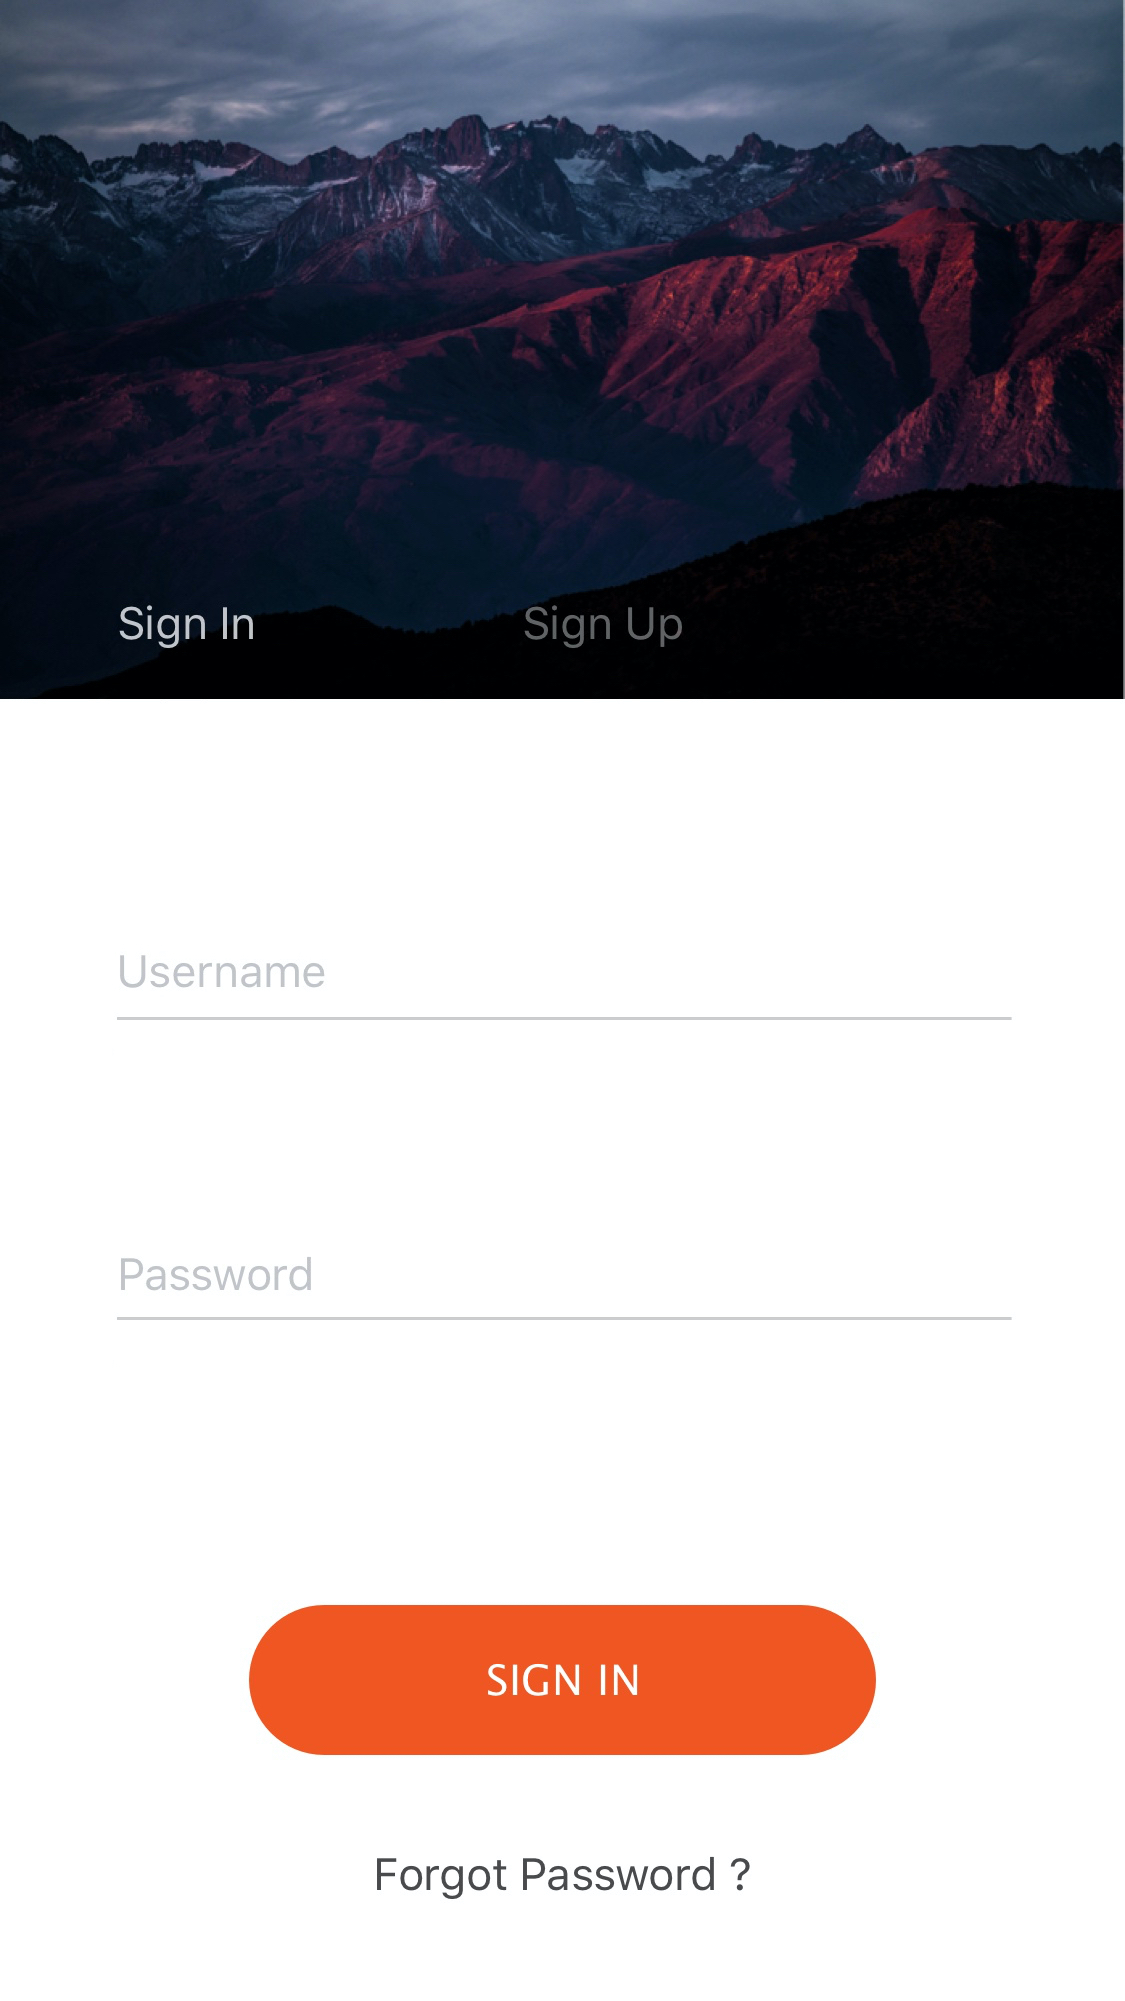EditText: (117, 955, 1012, 1022)
Image: (1, 1, 1125, 700)
Text: (117, 1256, 1012, 1321), (376, 1855, 751, 1901), (523, 603, 683, 650), (121, 1256, 313, 1292), (120, 957, 326, 990), (120, 603, 257, 650)
TextButton: (249, 1604, 876, 1756)
